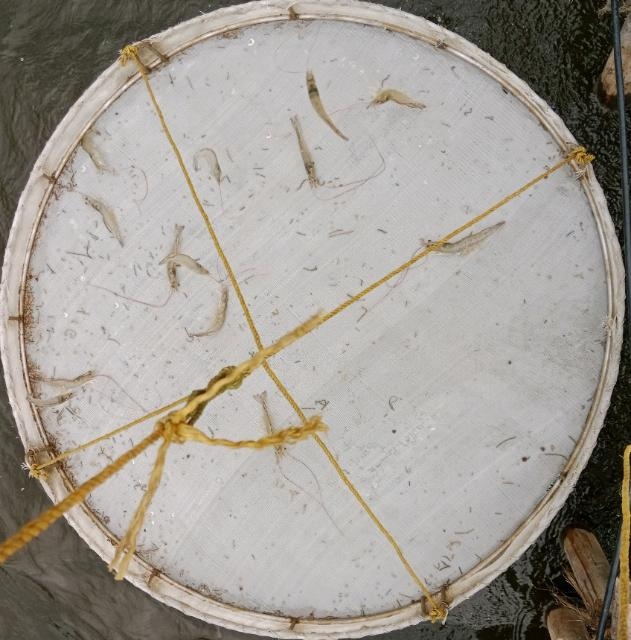shrimp: (307, 71, 347, 140), (422, 221, 505, 254), (253, 391, 291, 460), (188, 284, 228, 338), (291, 116, 321, 188), (86, 196, 123, 246), (159, 253, 209, 288), (81, 128, 114, 172), (371, 89, 426, 108), (26, 388, 78, 407), (195, 148, 221, 186)
